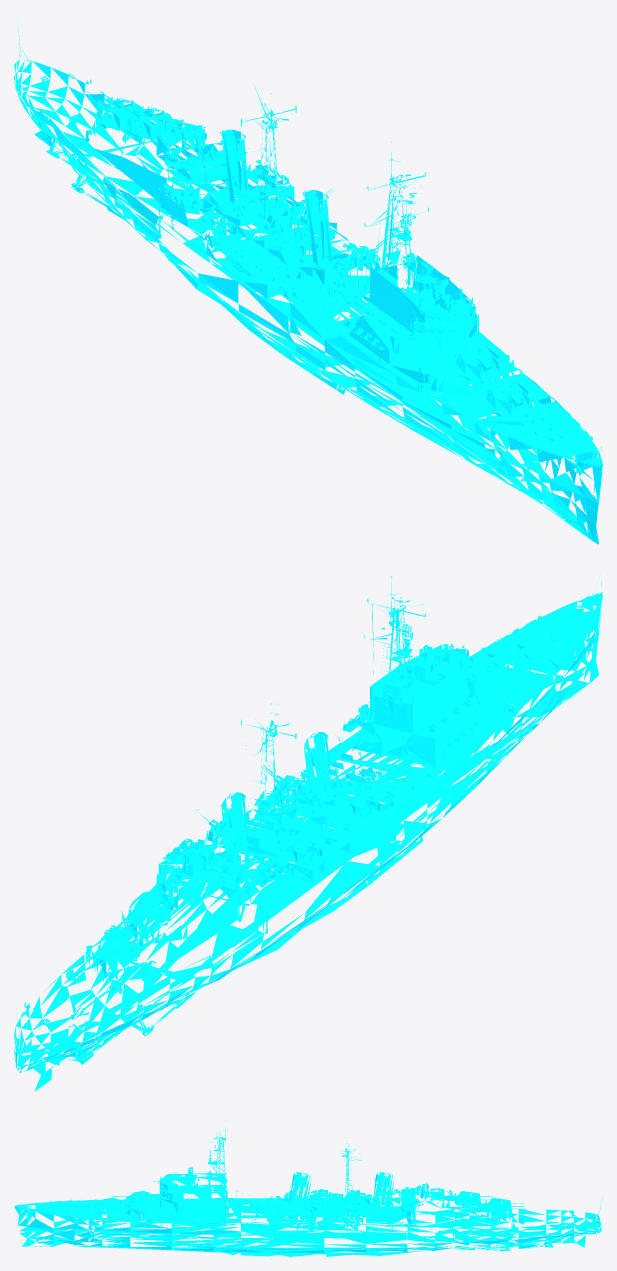
The model's file is Aberdeen.glb.
3 views of the same model, one above another, from view 1: azimuth 30°, elevation 25°; view 2: azimuth 150°, elevation 25°; view 3: azimuth 270°, elevation 25° (orthographic). The views are drawn at different scales.
Bounding box in the file's own units: 1.66 × 3 × 12.48.
